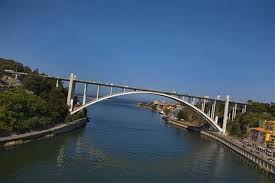arrabida: (41, 73, 252, 135)
